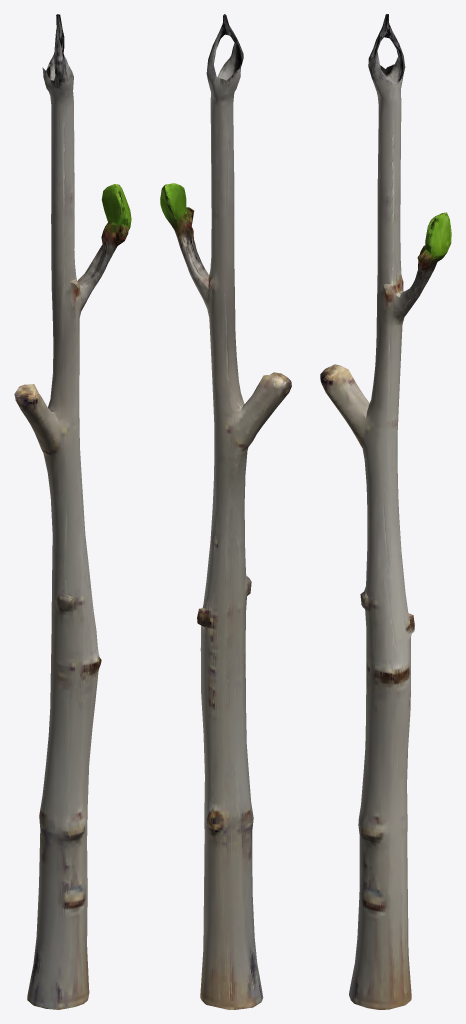
The model's file is apprentice_wand.glb.
The picture shows the model from 3 angles, left to right: view 1: azimuth 30°, elevation 25°; view 2: azimuth 150°, elevation 25°; view 3: azimuth 330°, elevation 25°; orthographic projection.
Visible parts, largest first — view 1: world; view 2: world; view 3: world.
Boxes of the visible parts, <box> form: world: <box>14,14,131,1009</box>; world: <box>160,14,291,1009</box>; world: <box>320,14,451,1009</box>.
Size of the model in its own units: 0.0519 by 0.4 by 0.0229.
Materials: 1 (1 with a texture image).
